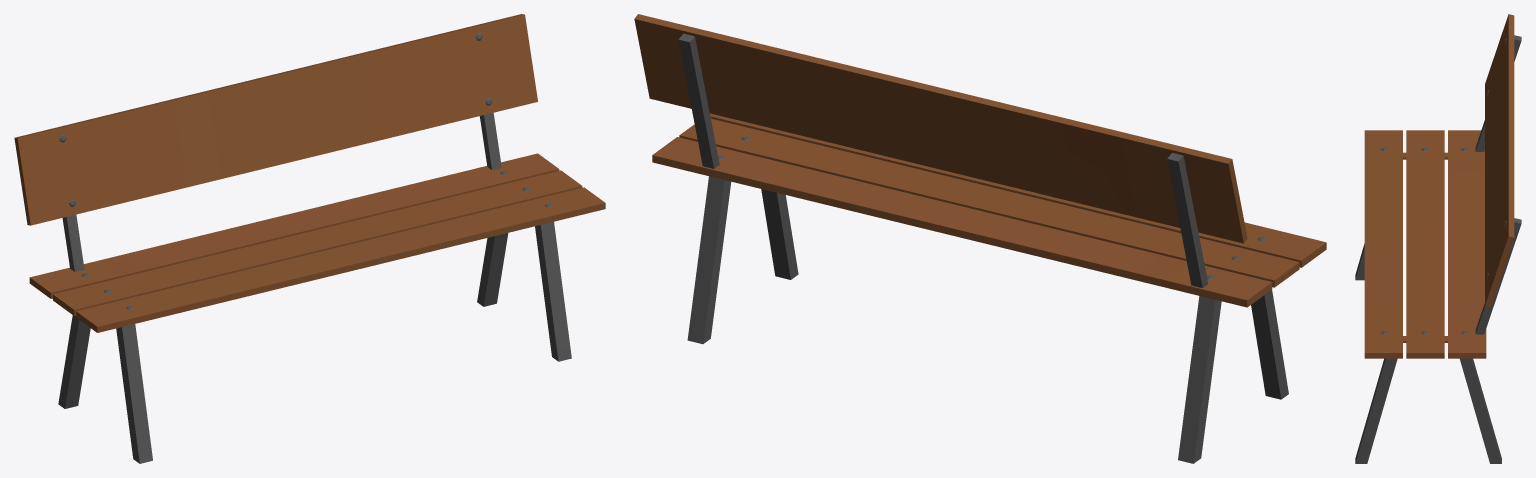
File: ghego.fbx
The picture shows the model from 3 angles, left to right: view 1: azimuth 30°, elevation 25°; view 2: azimuth 150°, elevation 25°; view 3: azimuth 270°, elevation 25°; orthographic projection. The views are drawn at different scales.
Visible parts, largest first — view 1: ghego; view 2: ghego; view 3: ghego.
Boxes of the visible parts, <box> form: ghego: <box>14,14,605,463</box>; ghego: <box>634,14,1326,463</box>; ghego: <box>1355,14,1521,463</box>.
Size of the model in its own units: 230 by 118 by 72.41.
1 material, 1 textured.
